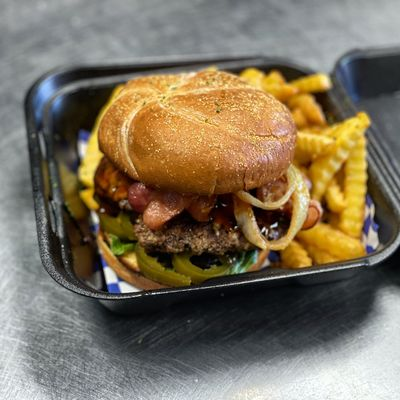soup: (77, 70, 315, 289)
sushi: (10, 56, 400, 310)
